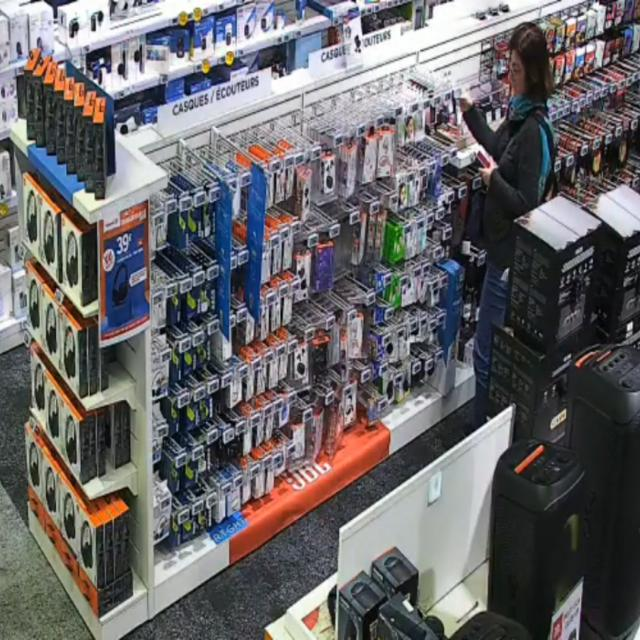article: (475, 144, 491, 169), (453, 88, 462, 125)
hands: (480, 160, 496, 186), (458, 92, 473, 113)
person: (460, 24, 554, 427)
